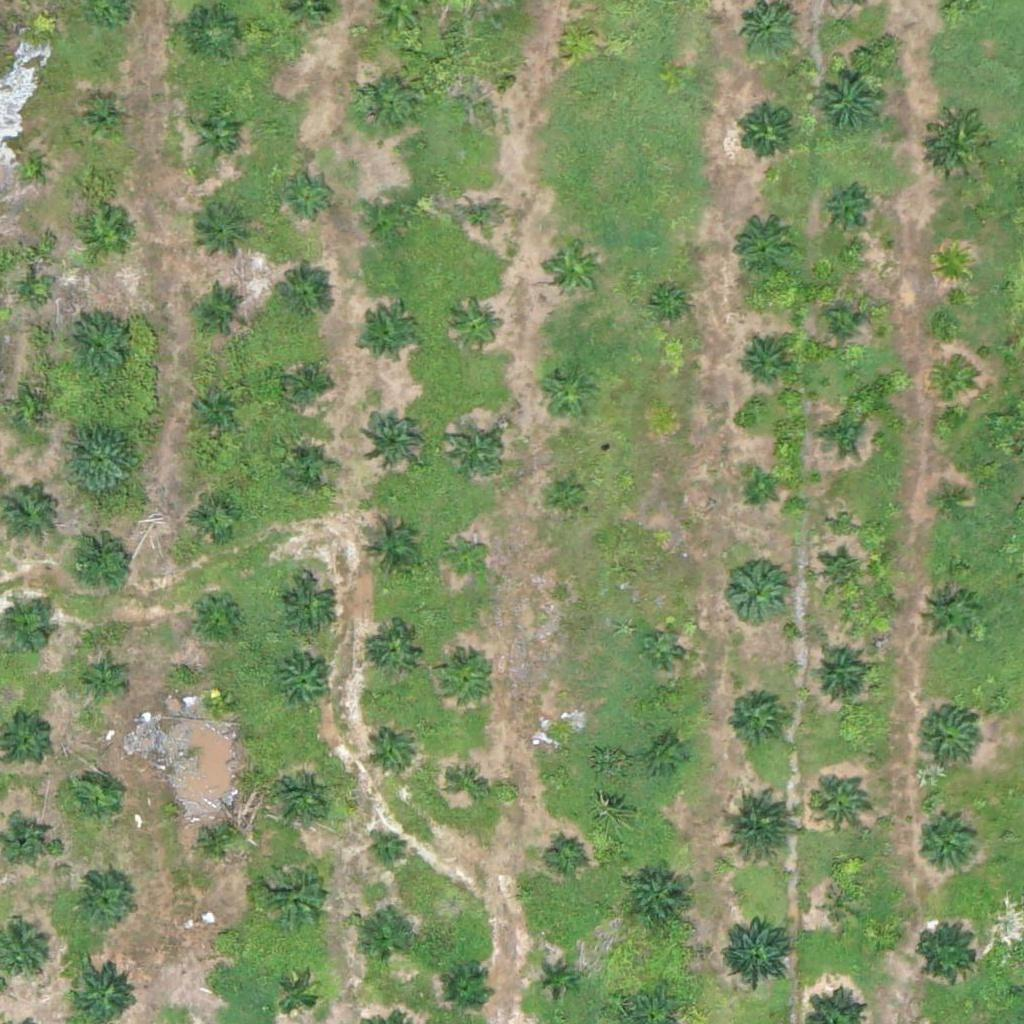Kelapa_Sawit: (60, 307, 135, 383), (64, 525, 139, 601), (259, 851, 334, 927), (64, 421, 139, 497), (718, 794, 793, 869), (720, 908, 795, 983), (810, 62, 885, 137), (724, 558, 787, 621), (535, 362, 598, 425), (278, 576, 341, 639), (927, 114, 990, 177), (194, 200, 257, 263), (352, 71, 415, 134), (542, 239, 605, 302), (273, 269, 336, 332), (357, 307, 419, 370), (72, 960, 134, 1023), (623, 868, 685, 931), (725, 685, 787, 748), (270, 768, 332, 831), (358, 520, 420, 583), (445, 421, 507, 484), (361, 404, 423, 467), (69, 870, 131, 933), (730, 217, 792, 280), (734, 100, 796, 163), (808, 642, 870, 705), (918, 922, 980, 985), (918, 586, 980, 649), (916, 706, 978, 769), (920, 817, 982, 880), (810, 771, 872, 834), (275, 655, 337, 717), (451, 300, 501, 351), (736, 338, 786, 389), (813, 408, 863, 459), (188, 8, 238, 59), (455, 194, 505, 245), (367, 192, 417, 243), (285, 169, 335, 220), (193, 111, 243, 162), (1, 811, 51, 861), (4, 605, 54, 655), (190, 588, 240, 638), (189, 492, 239, 542), (371, 623, 421, 673), (441, 655, 491, 705), (354, 918, 404, 968), (67, 771, 117, 821), (817, 188, 867, 238), (82, 213, 132, 263), (440, 965, 490, 1015), (194, 814, 244, 864), (814, 551, 864, 601), (818, 302, 868, 352), (283, 358, 333, 408), (285, 442, 335, 492), (191, 378, 241, 428), (196, 283, 246, 333), (78, 96, 128, 146), (366, 727, 416, 777), (82, 661, 120, 699), (369, 829, 407, 867), (933, 245, 971, 283), (935, 367, 973, 405), (934, 487, 972, 525), (559, 17, 597, 55), (650, 288, 688, 326), (446, 540, 484, 578), (544, 723, 582, 761), (450, 765, 488, 803), (649, 739, 686, 777), (824, 888, 861, 926), (535, 961, 572, 999), (549, 837, 587, 874), (741, 471, 778, 509), (466, 69, 503, 107), (549, 477, 586, 514), (644, 627, 681, 664), (22, 398, 47, 424), (15, 153, 40, 178), (20, 281, 45, 306), (203, 689, 228, 714), (210, 924, 235, 949)
